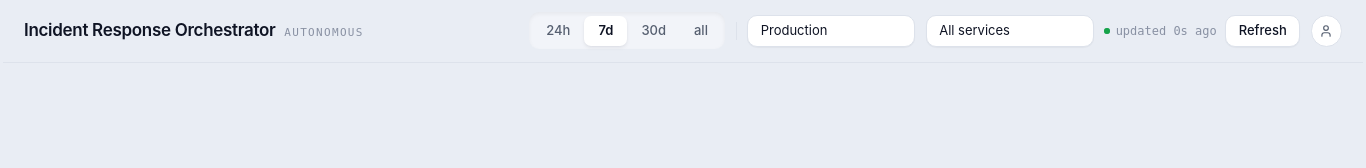
DashboardHeader › defaults the environment filter to Production only
Click the button with aria-label "environment" at (831, 31), box x1=747 y1=15 x2=915 y2=46
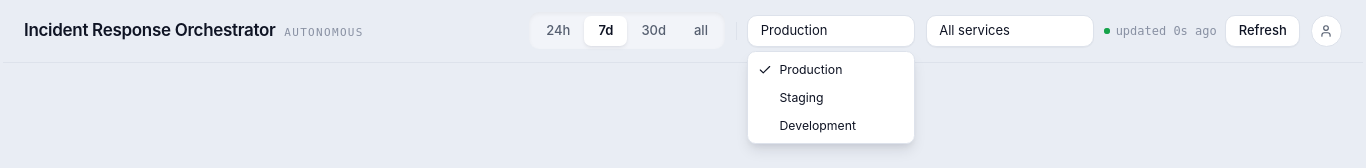
Check: the menu item "Production" is checked, box x1=758 y1=62 x2=842 y2=77
Check: the menu item "Staging" is not checked, box x1=780 y1=90 x2=824 y2=105
